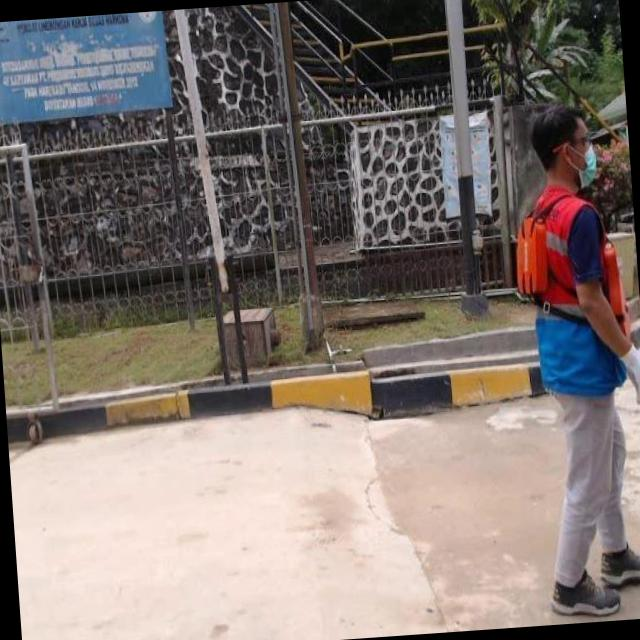safety_vest: (509, 182, 636, 403)
vehicle: (468, 85, 640, 628)
work_boots: (548, 558, 622, 622), (595, 542, 640, 588)
